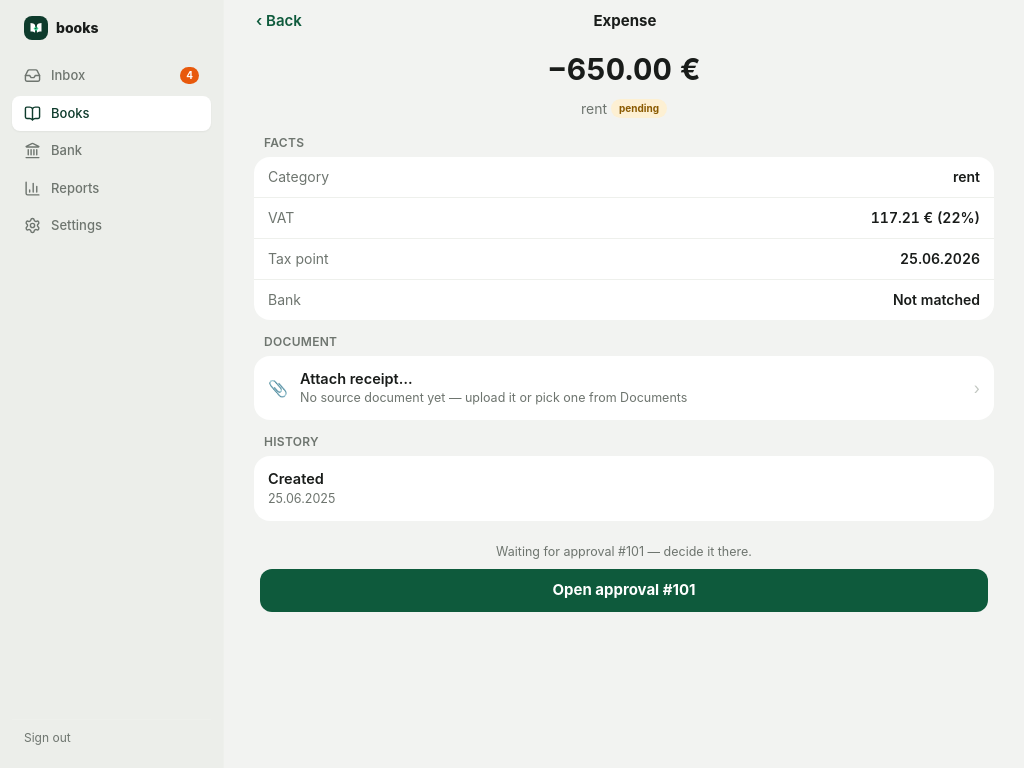
it: pending Books record → its own approval (#262) › opens as a single item and approve returns to the record — no finished approval in Forward
This screenshot has width=1024, height=768.
Click the link "Open approval #101".
click(624, 591)  # box left=260, top=569, right=988, bottom=612
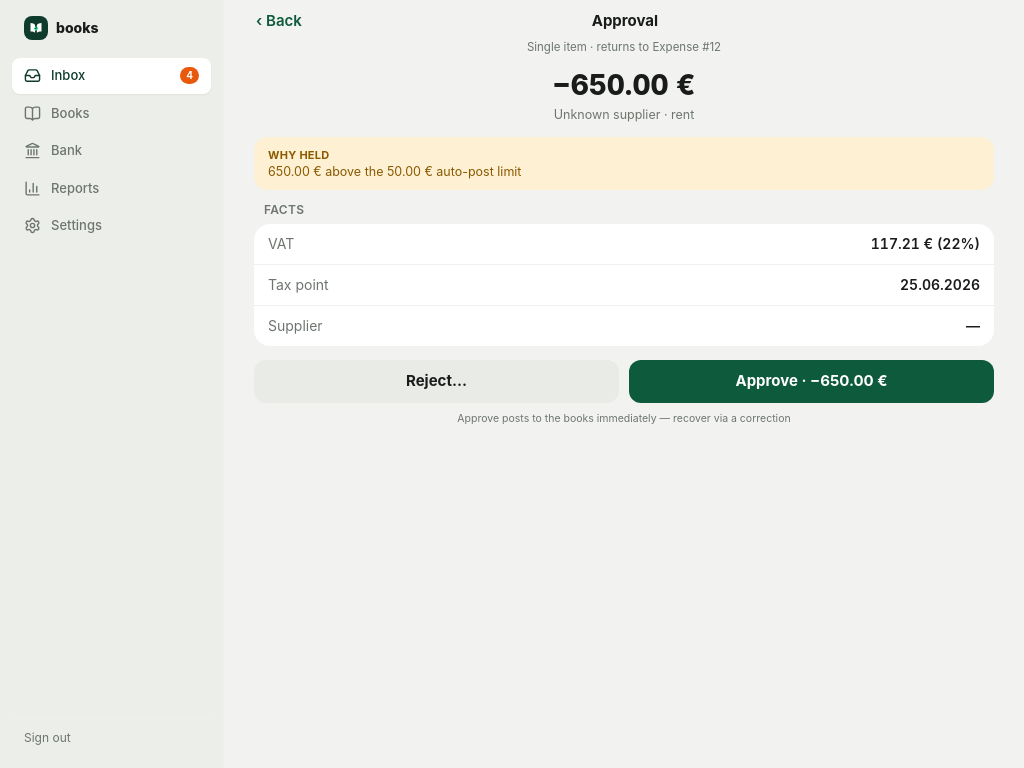
Expected: the text "Single item · returns to Expense #12" is shown, left=527, top=40, right=721, bottom=54
Expected: the button "Approve · −650.00 €" is enabled
Click the button "Approve · −650.00 €".
click(812, 381)  # box left=629, top=360, right=994, bottom=403
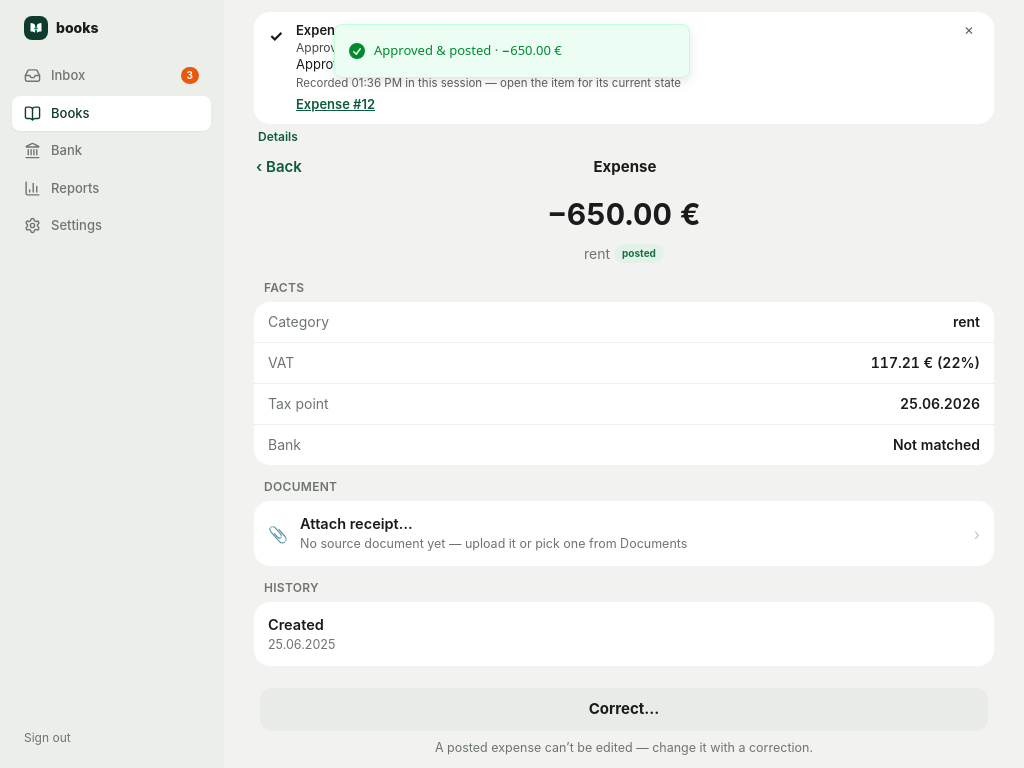
Expected: the text "change it with a correction" is shown, left=435, top=740, right=813, bottom=755
